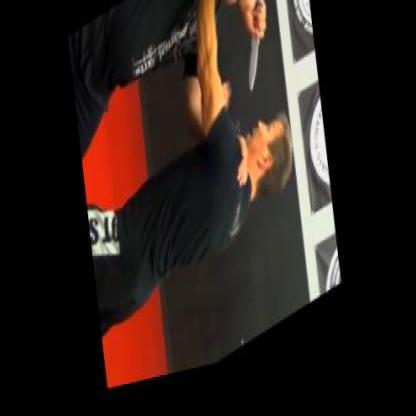knife: (237, 2, 278, 108)
